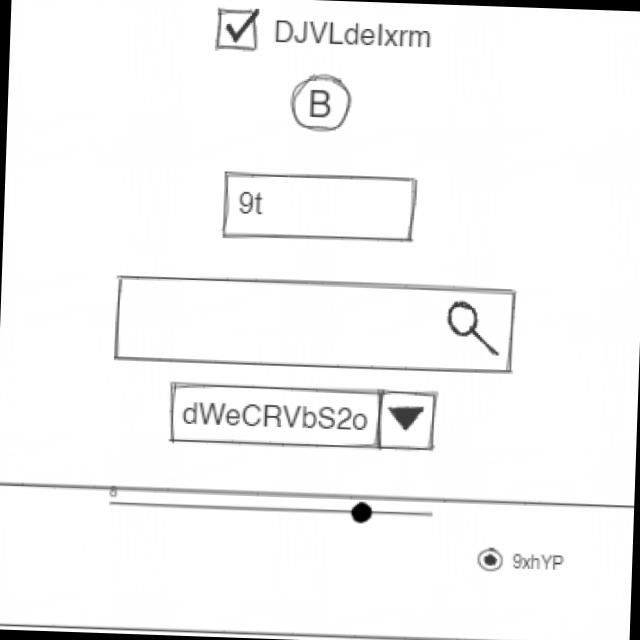checkbox: (213, 3, 434, 60)
container: (0, 474, 634, 640)
icon-button: (286, 67, 354, 136)
input: (216, 166, 422, 247)
radio: (472, 546, 566, 576)
search: (110, 268, 522, 378)
select: (164, 374, 440, 454)
slider: (120, 491, 436, 528)
